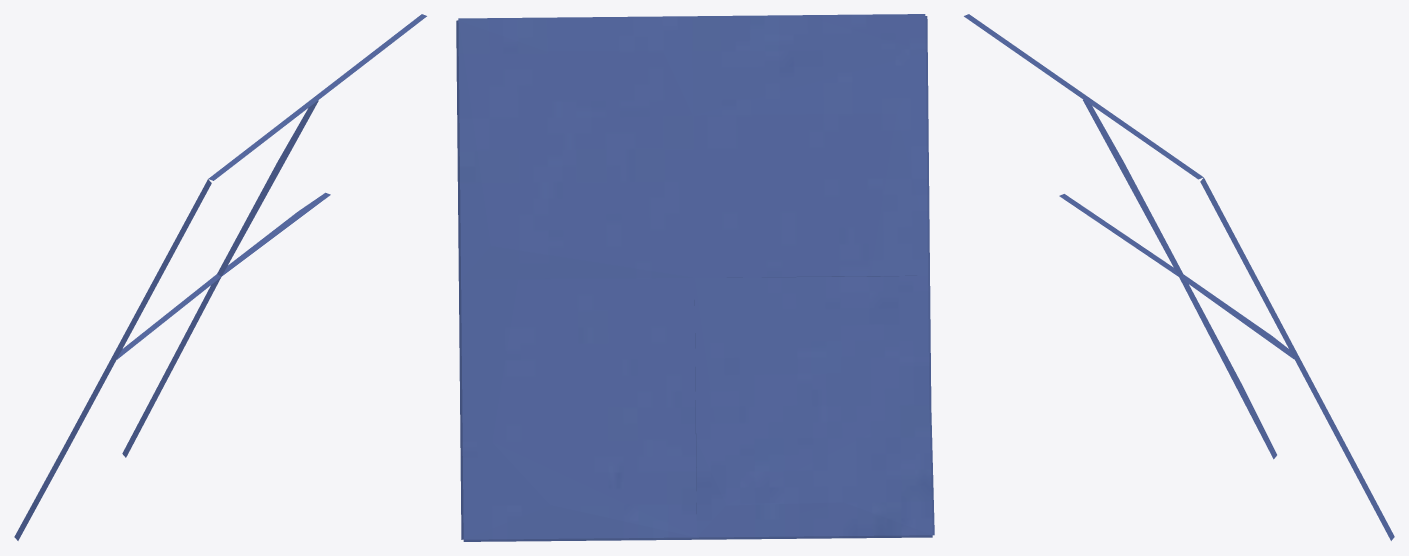
The picture shows the model from 3 angles, left to right: view 1: azimuth 30°, elevation 25°; view 2: azimuth 150°, elevation 25°; view 3: azimuth 270°, elevation 25°; orthographic projection. The views are drawn at different scales.
Size of the model in its own units: 79156 by 70810 by 67128.
Materials: 1 (1 with a texture image).
